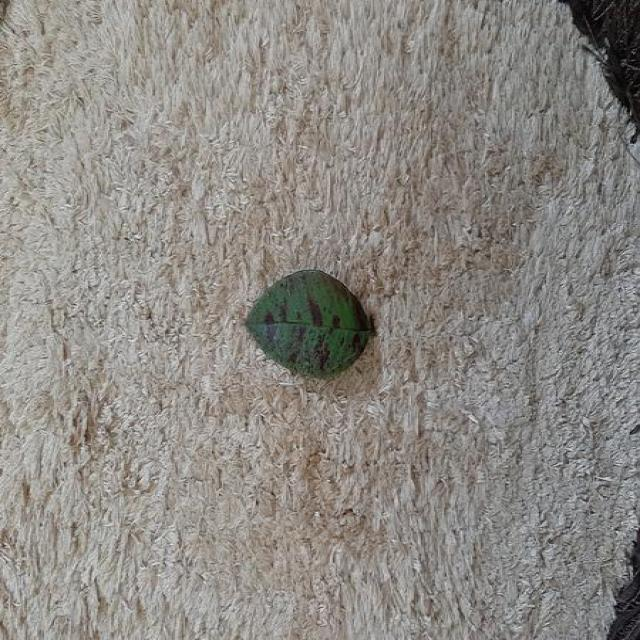leaf: (244, 267, 375, 381)
